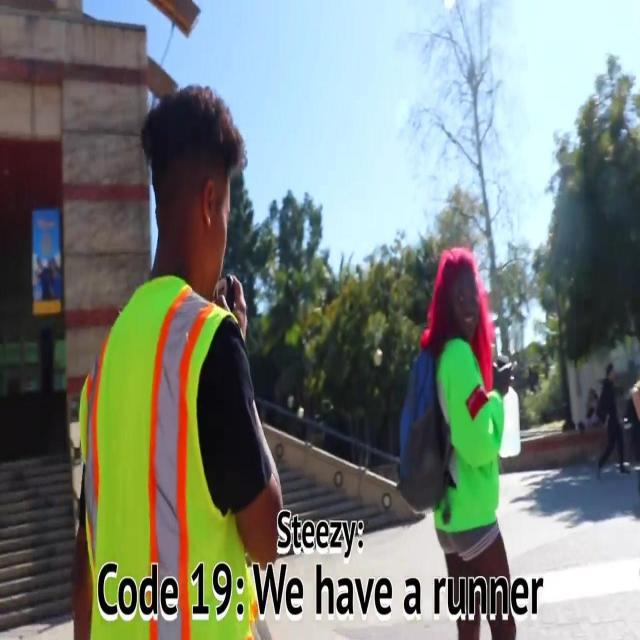vest: (78, 274, 252, 639)
